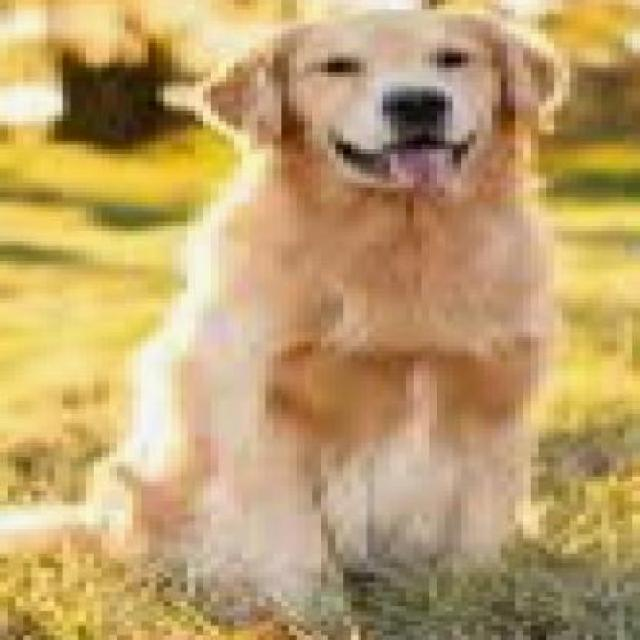Dog: (5, 6, 577, 639)
